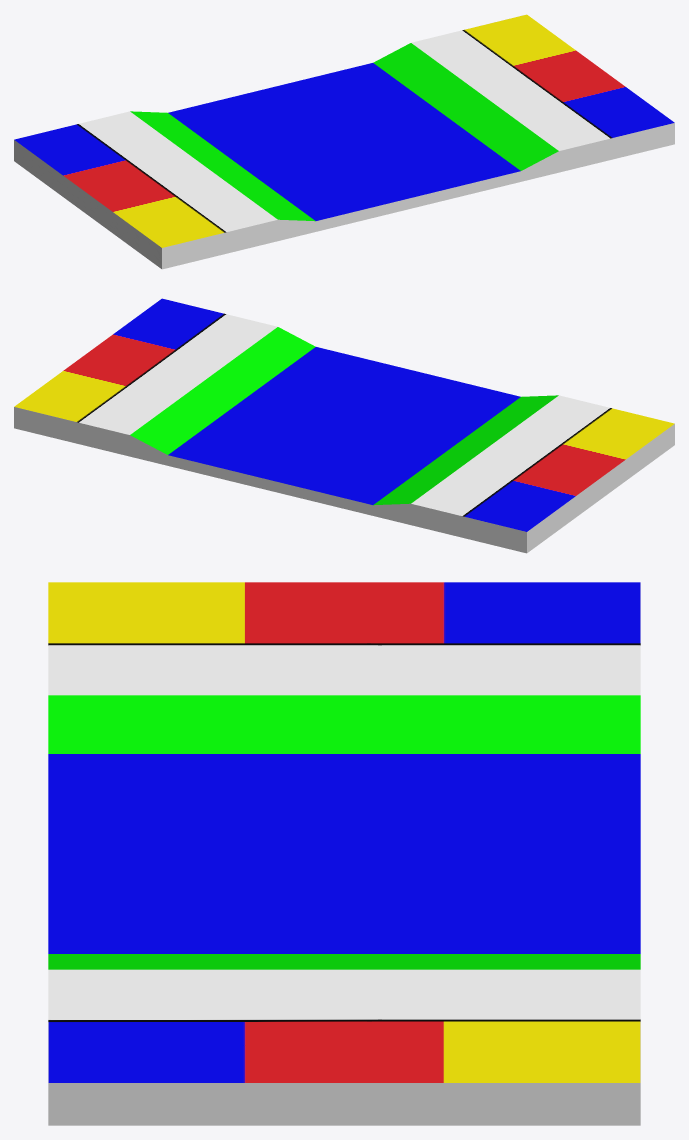
File: ArenaSEK.obj
3 renders of one model, top to bottom at view 1: azimuth 30°, elevation 25°; view 2: azimuth 150°, elevation 25°; view 3: azimuth 270°, elevation 25°, orthographic. The views are drawn at different scales.
Parts seen in each view (by area): view 1: Cube_Arena; view 2: Cube_Arena; view 3: Cube_Arena.
Part boxes in pixels (box(x1,y1,x2,y2)): Cube_Arena: box(14, 14, 674, 269); Cube_Arena: box(14, 298, 674, 553); Cube_Arena: box(48, 582, 640, 1125).
Bounding box in the file's own units: 5 × 0.2 × 2.5.
